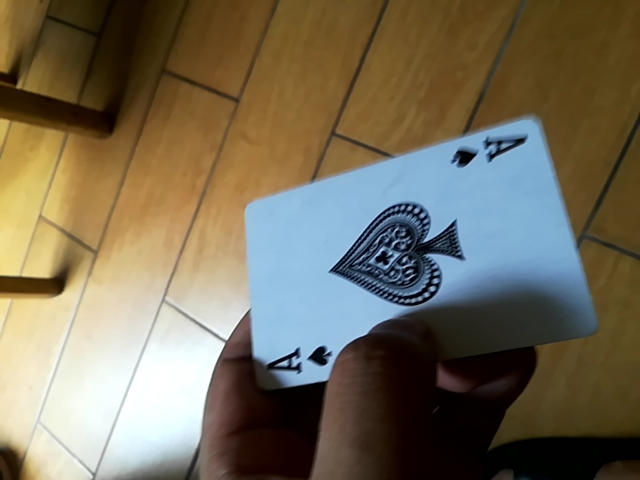ht a: (243, 115, 585, 390)
